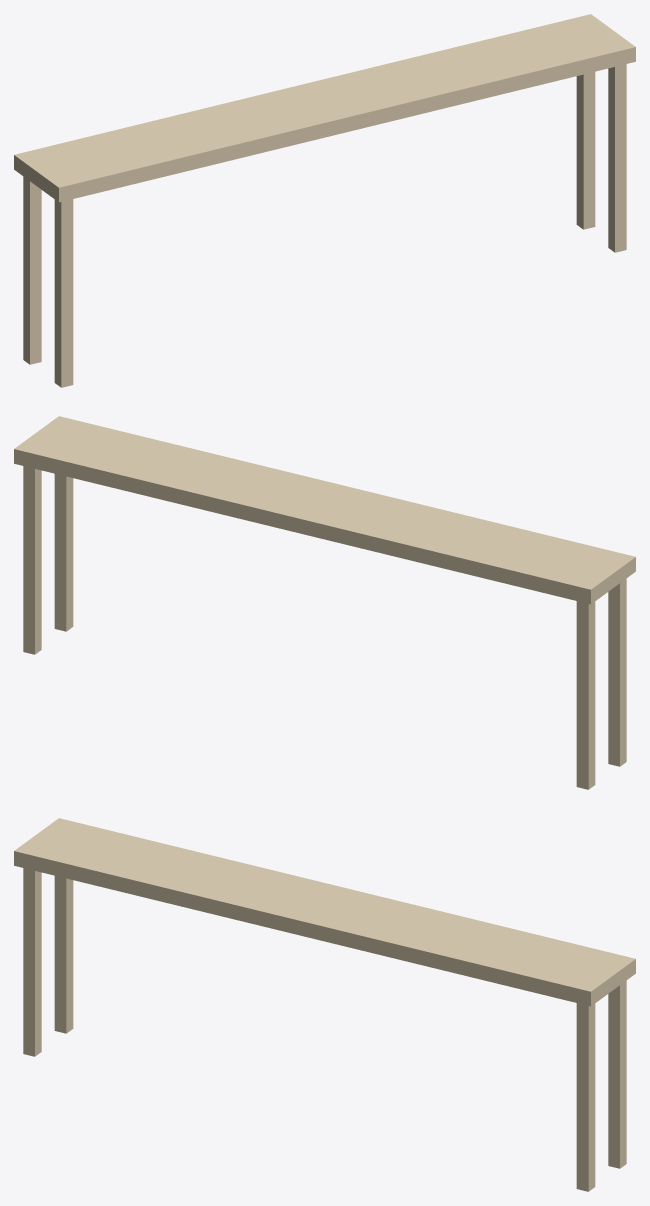
The model's file is desk.glb.
The picture shows the model from 3 angles, top to bottom: view 1: azimuth 30°, elevation 25°; view 2: azimuth 150°, elevation 25°; view 3: azimuth 330°, elevation 25°; orthographic projection.
Parts seen in each view (by area): view 1: REF-L02-R01-desk-part-1, REF-L02-R01-desk-part-3, REF-L02-R01-desk-part-5, REF-L02-R01-desk-part-2, REF-L02-R01-desk-part-4; view 2: REF-L02-R01-desk-part-1, REF-L02-R01-desk-part-2, REF-L02-R01-desk-part-4, REF-L02-R01-desk-part-3, REF-L02-R01-desk-part-5; view 3: REF-L02-R01-desk-part-1, REF-L02-R01-desk-part-5, REF-L02-R01-desk-part-3, REF-L02-R01-desk-part-4, REF-L02-R01-desk-part-2.
Boxes of the visible parts, bbox=[...] form: REF-L02-R01-desk-part-1: bbox=[14, 14, 635, 202]; REF-L02-R01-desk-part-3: bbox=[54, 199, 73, 387]; REF-L02-R01-desk-part-5: bbox=[608, 64, 626, 252]; REF-L02-R01-desk-part-2: bbox=[23, 176, 41, 364]; REF-L02-R01-desk-part-4: bbox=[576, 72, 595, 229]; REF-L02-R01-desk-part-1: bbox=[14, 416, 635, 604]; REF-L02-R01-desk-part-2: bbox=[576, 601, 595, 789]; REF-L02-R01-desk-part-4: bbox=[23, 466, 41, 654]; REF-L02-R01-desk-part-3: bbox=[608, 578, 626, 766]; REF-L02-R01-desk-part-5: bbox=[54, 474, 73, 631]; REF-L02-R01-desk-part-1: bbox=[14, 818, 635, 1006]; REF-L02-R01-desk-part-5: bbox=[576, 1003, 595, 1191]; REF-L02-R01-desk-part-3: bbox=[23, 868, 41, 1056]; REF-L02-R01-desk-part-4: bbox=[608, 980, 626, 1168]; REF-L02-R01-desk-part-2: bbox=[54, 876, 73, 1033].
Bounding box in the file's own units: 0.74 × 0.25 × 0.1.
